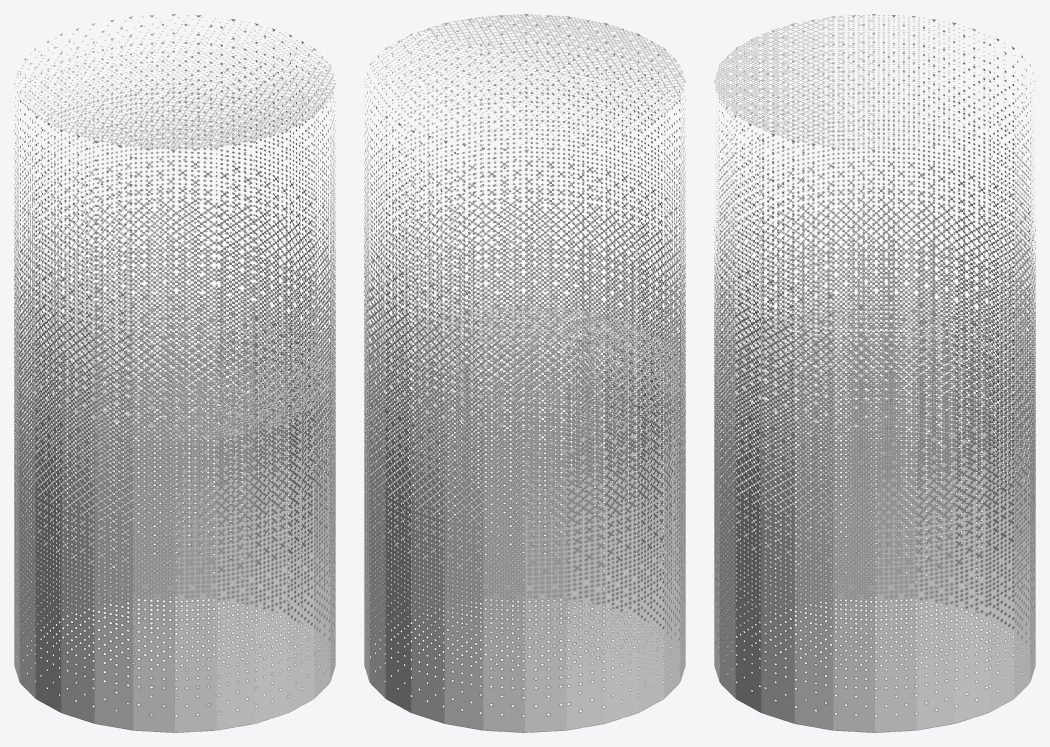
The model's file is jump2.obj.
3 renders of one model, left to right at view 1: azimuth 30°, elevation 25°; view 2: azimuth 150°, elevation 25°; view 3: azimuth 270°, elevation 25°, orthographic.
Parts seen in each view (by area): view 1: entity0_brush1, entity0_brush0; view 2: entity0_brush1, entity0_brush0; view 3: entity0_brush1, entity0_brush0.
Boxes of the visible parts, x1,y1,x2,y2 form: entity0_brush1: (14, 306, 335, 732); entity0_brush0: (14, 14, 335, 441); entity0_brush1: (364, 305, 685, 732); entity0_brush0: (364, 14, 685, 441); entity0_brush1: (714, 306, 1035, 732); entity0_brush0: (714, 14, 1035, 441).
Size of the model in its own units: 64 by 128 by 64.
Materials: 1 (1 with a texture image).
